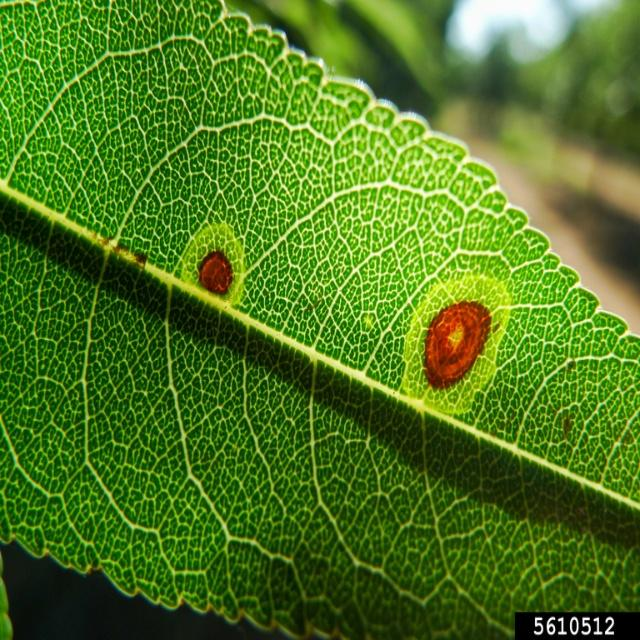leaf_spot: (144, 166, 571, 517)
